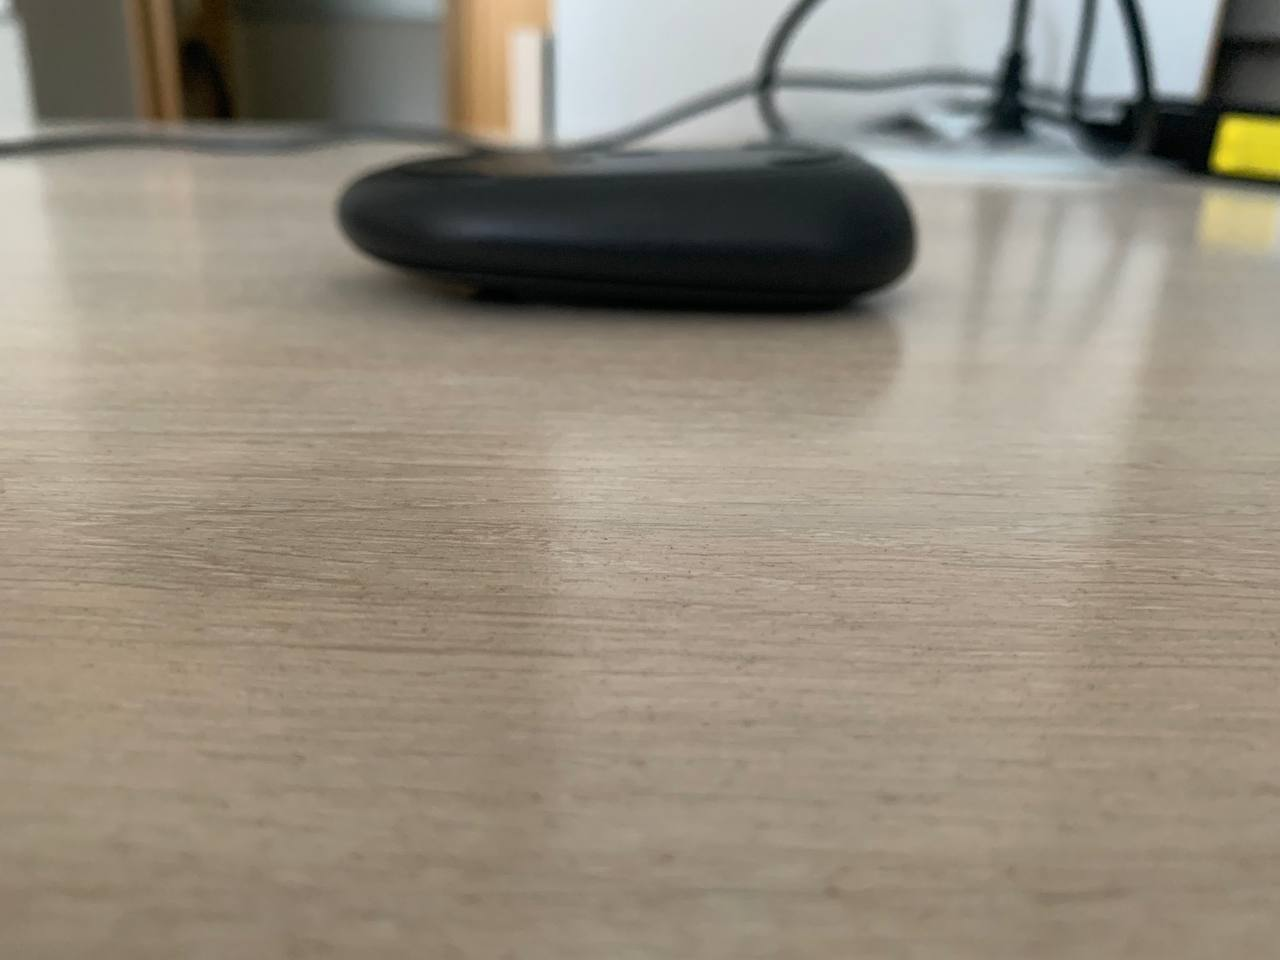mouse: (337, 144, 917, 307)
